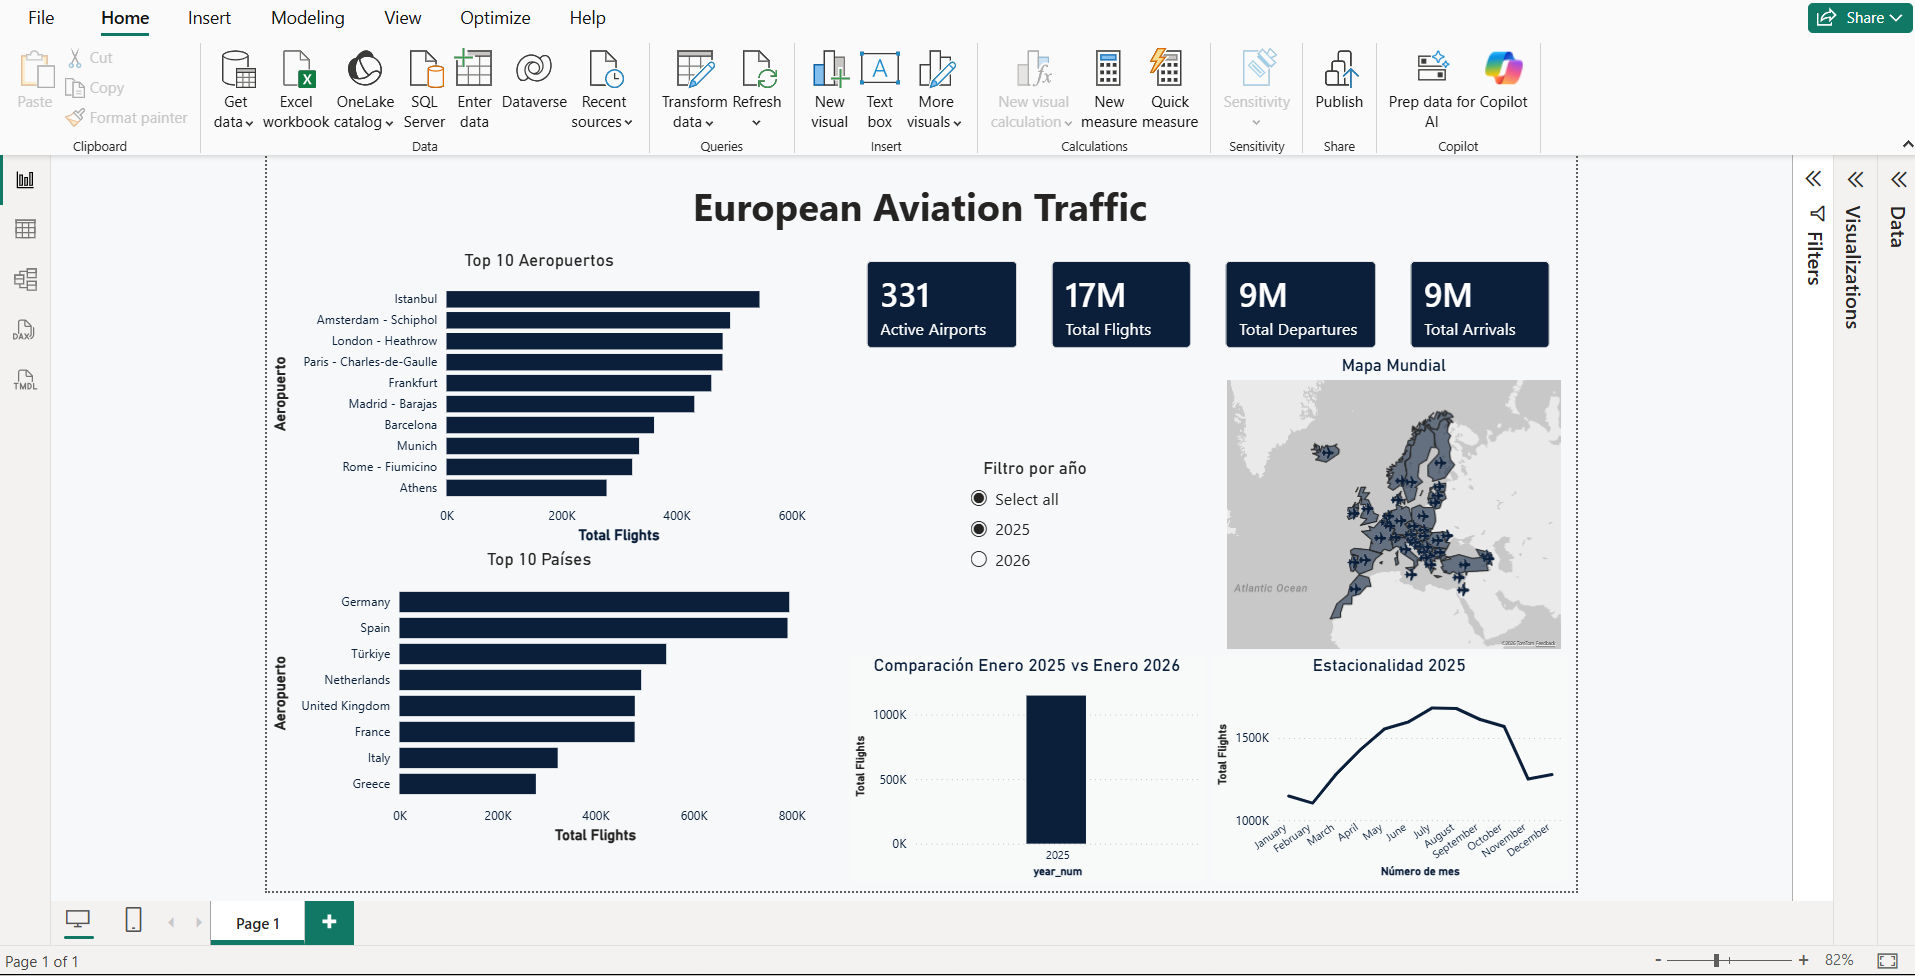

The dashboard page shown, as its layout file describes it:
{"tool":"powerbi","page":{"name":"Page 1","canvas":[1280,720],"ordinal":0},"visuals":[{"type":"azureMap","title":"Mapa Mundial","fields":{"Category":["aviation_db flights.state_name"]},"box":[934.2,195.7,336.3,293.5],"z":0},{"type":"textbox","box":[403.5,19.6,470.8,73.4],"z":1000},{"type":"group","id":"g1","title":"Group 1","box":[569.8,86.8,701.9,118.6],"z":2000},{"type":"cardVisual","fields":{"Data":["aviation_db flights.Active Airports"]},"box":[569.8,86.8,181.1,119.4],"z":2000,"group":"g1"},{"type":"barChart","title":"Top 10 Aeropuertos","fields":{"Category":["aviation_db flights.apt_name"],"Y":["aviation_db flights.Total Flights"]},"box":[0,93.3,532.4,292.3],"z":2000,"group":"g2"},{"type":"cardVisual","fields":{"Data":["aviation_db flights.Total Arrivals"]},"box":[1102.2,86.8,170.2,119.4],"z":3000,"group":"g1"},{"type":"group","id":"g2","title":"Group 2","box":[0,93.3,532.4,585.9],"z":3000},{"type":"barChart","title":"Top 10 Países ","fields":{"Y":["aviation_db flights.Total Flights"],"Category":["aviation_db flights.state_name"]},"box":[0,385.6,532.4,293.7],"z":3000,"group":"g2"},{"type":"cardVisual","fields":{"Data":["aviation_db flights.Total Departures"]},"box":[921.1,86.8,181.1,119.4],"z":4000,"group":"g1"},{"type":"lineChart","title":"Estacionalidad 2025","fields":{"Y":["aviation_db flights.Total Flights"],"Category":["aviation_db flights.month_name"]},"box":[924.4,489.1,347.3,222.6],"z":4000,"group":"g3"},{"type":"cardVisual","fields":{"Data":["aviation_db flights.Total Flights"]},"box":[750.9,86.8,170.2,119.4],"z":5000,"group":"g1"},{"type":"clusteredColumnChart","title":"Comparación Enero 2025 vs Enero 2026","fields":{"Y":["aviation_db flights.Total Flights"],"Category":["aviation_db flights.year_num"],"Series":["aviation_db flights.month_name"]},"box":[569.8,489.1,347.3,222.6],"z":5000,"group":"g3"},{"type":"listSlicer","title":"Filtro por año","fields":{"Values":["aviation_db flights.year_num"]},"box":[682.3,295.9,138.2,119.8],"z":5001},{"type":"group","id":"g3","title":"Group 3","box":[569.8,489.1,701.9,222.6],"z":5002}]}

Visuals, with their boxes on the page's 1280x720 design canvas (x1, y1, x2, y2). These are canvas units, not pixel positions in the 1915x976 screenshot, which may show the page scaled, cropped or inside an application window:
"Mapa Mundial" azureMap: bbox(934, 196, 1270, 489)
textbox: bbox(404, 20, 874, 93)
"Group 1" group: bbox(570, 87, 1272, 205)
cardVisual - aviation_db flights.Active Airports: bbox(570, 87, 751, 206)
"Top 10 Aeropuertos" barChart: bbox(0, 93, 532, 386)
cardVisual - aviation_db flights.Total Arrivals: bbox(1102, 87, 1272, 206)
"Group 2" group: bbox(0, 93, 532, 679)
"Top 10 Países " barChart: bbox(0, 386, 532, 679)
cardVisual - aviation_db flights.Total Departures: bbox(921, 87, 1102, 206)
"Estacionalidad 2025" lineChart: bbox(924, 489, 1272, 712)
cardVisual - aviation_db flights.Total Flights: bbox(751, 87, 921, 206)
"Comparación Enero 2025 vs Enero 2026" clusteredColumnChart: bbox(570, 489, 917, 712)
"Filtro por año" listSlicer: bbox(682, 296, 820, 416)
"Group 3" group: bbox(570, 489, 1272, 712)
